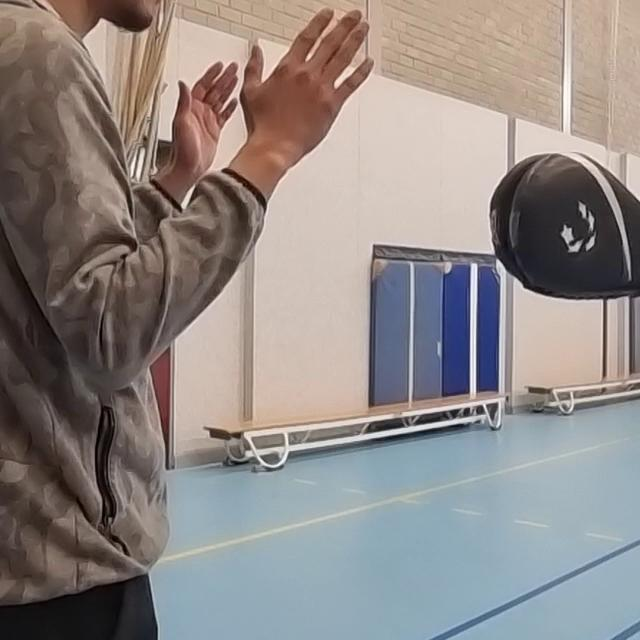paddle: (483, 153, 640, 305)
